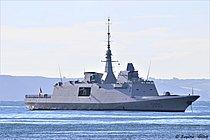MIL_Ship: (22, 15, 202, 113)
